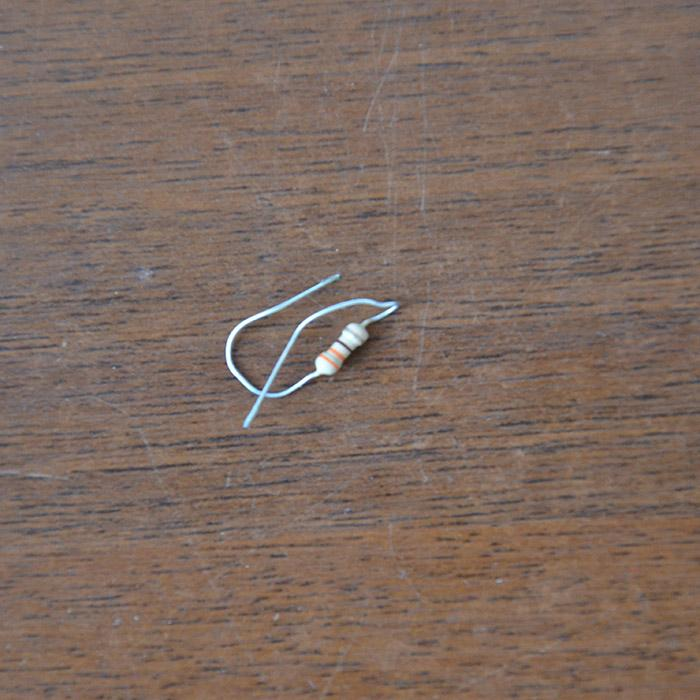resistor: (314, 322, 368, 376)
